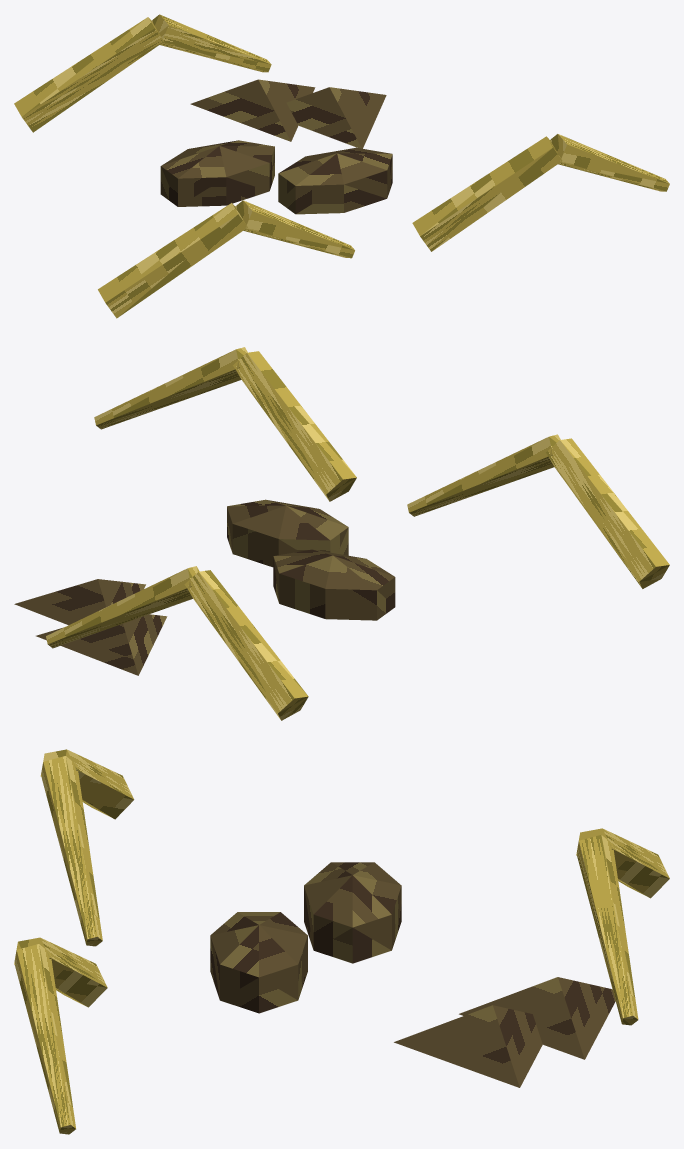
Rendered from fd_gibs_insect__2.glb.
3 renders of one model, top to bottom at view 1: azimuth 30°, elevation 25°; view 2: azimuth 150°, elevation 25°; view 3: azimuth 270°, elevation 25°, orthographic. The views are drawn at different scales.
Visible parts, largest first — view 1: block_leg (×6), block_organ (×2), block_shard (×2); view 2: block_leg (×6), block_organ (×2), block_shard (×2); view 3: block_leg (×6), block_organ (×2), block_shard (×2).
Part boxes in pixels (x1,y1,x2,y2): block_leg (×6): (14,14,669,318); block_organ (×2): (160,140,392,214); block_shard (×2): (190,79,386,148); block_leg (×6): (46,347,669,720); block_organ (×2): (227,499,395,620); block_shard (×2): (14,579,167,675); block_leg (×6): (14,749,669,1134); block_organ (×2): (210,862,401,1013); block_shard (×2): (394,977,615,1087).
Size of what is drawn, in the model's own units: 0.4457 by 0.083 by 0.3629.
Materials: 1 (1 with a texture image).
